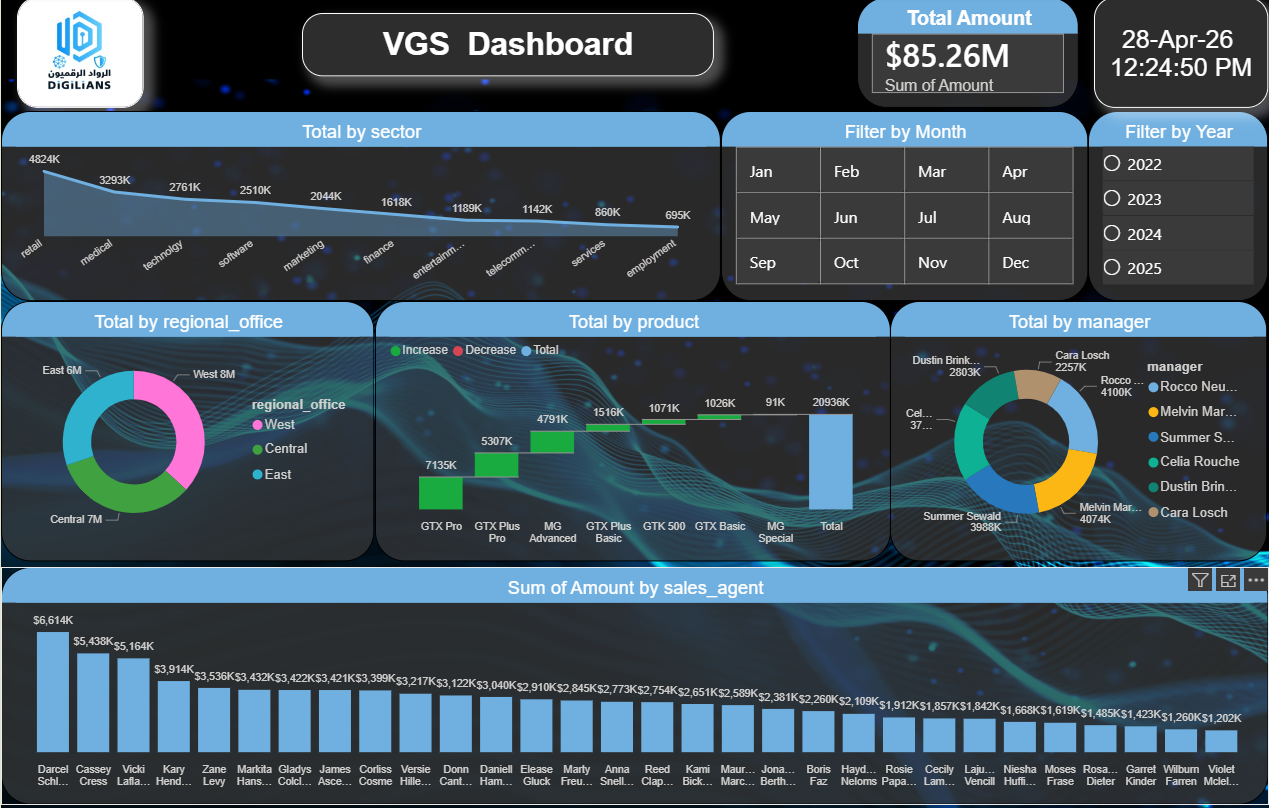

The page's visual inventory and layout, read from the dashboard file:
{"tool":"powerbi","page":{"name":"Dashboard","canvas":[1280,820],"ordinal":0},"visuals":[{"type":"clusteredColumnChart","fields":{"Category":["sales_teams.sales_agent"],"Y":["Sum(sales_pipeline.Amount)"]},"box":[0,576,1280,240],"z":0},{"type":"cardVisual","title":"Total Amount","fields":{"Data":["Sum(sales_pipeline.Amount)"]},"box":[864,0,224,112],"z":1000},{"type":"donutChart","fields":{"Category":["sales_teams.manager"],"Y":["sales_pipeline.Total"]},"box":[898.1,306.5,380.8,263.4],"z":2000},{"type":"donutChart","fields":{"Category":["sales_teams.regional_office"],"Y":["sales_pipeline.Total"]},"box":[0,306.5,377.2,263.4],"z":3000},{"type":"listSlicer","title":"Filter by Year","fields":{"Values":["sales_pipeline.Year"]},"box":[1098,115,182,191.6],"z":4000},{"type":"advancedSlicerVisual","title":"Filter by Month","fields":{"Values":["sales_pipeline.Month Name"]},"box":[726.8,115,371.2,191.6],"z":5000},{"type":"waterfallChart","fields":{"Category":["products.product"],"Y":["sales_pipeline.Total"]},"box":[377.2,306.5,520.9,263.4],"z":6000},{"type":"image","box":[16,0,128,112],"z":7000},{"type":"textbox","box":[304,16,416,64],"z":8000},{"type":"areaChart","fields":{"Category":["accounts.sector"],"Y":["sales_pipeline.Total"]},"box":[0,115,726.8,191.6],"z":9000},{"type":"card","fields":{"Values":["accounts.DateTime"]},"box":[1104,0,176,112],"z":10000}]}

Visuals, with their boxes in screenshot pixels (x1, y1, x2, y2), scaled from the page's 1280x820 canvas onto the 1269x808 screenshot:
clusteredColumnChart - sales_teams.sales_agent x Sum(sales_pipeline.Amount): box(0, 568, 1268, 804)
"Total Amount" cardVisual: box(857, 0, 1079, 110)
donutChart - sales_teams.manager x sales_pipeline.Total: box(890, 302, 1268, 562)
donutChart - sales_teams.regional_office x sales_pipeline.Total: box(0, 302, 374, 562)
"Filter by Year" listSlicer: box(1089, 113, 1268, 302)
"Filter by Month" advancedSlicerVisual: box(721, 113, 1089, 302)
waterfallChart - products.product x sales_pipeline.Total: box(374, 302, 890, 562)
image: box(16, 0, 143, 110)
textbox: box(301, 16, 714, 79)
areaChart - accounts.sector x sales_pipeline.Total: box(0, 113, 721, 302)
card - accounts.DateTime: box(1095, 0, 1268, 110)
